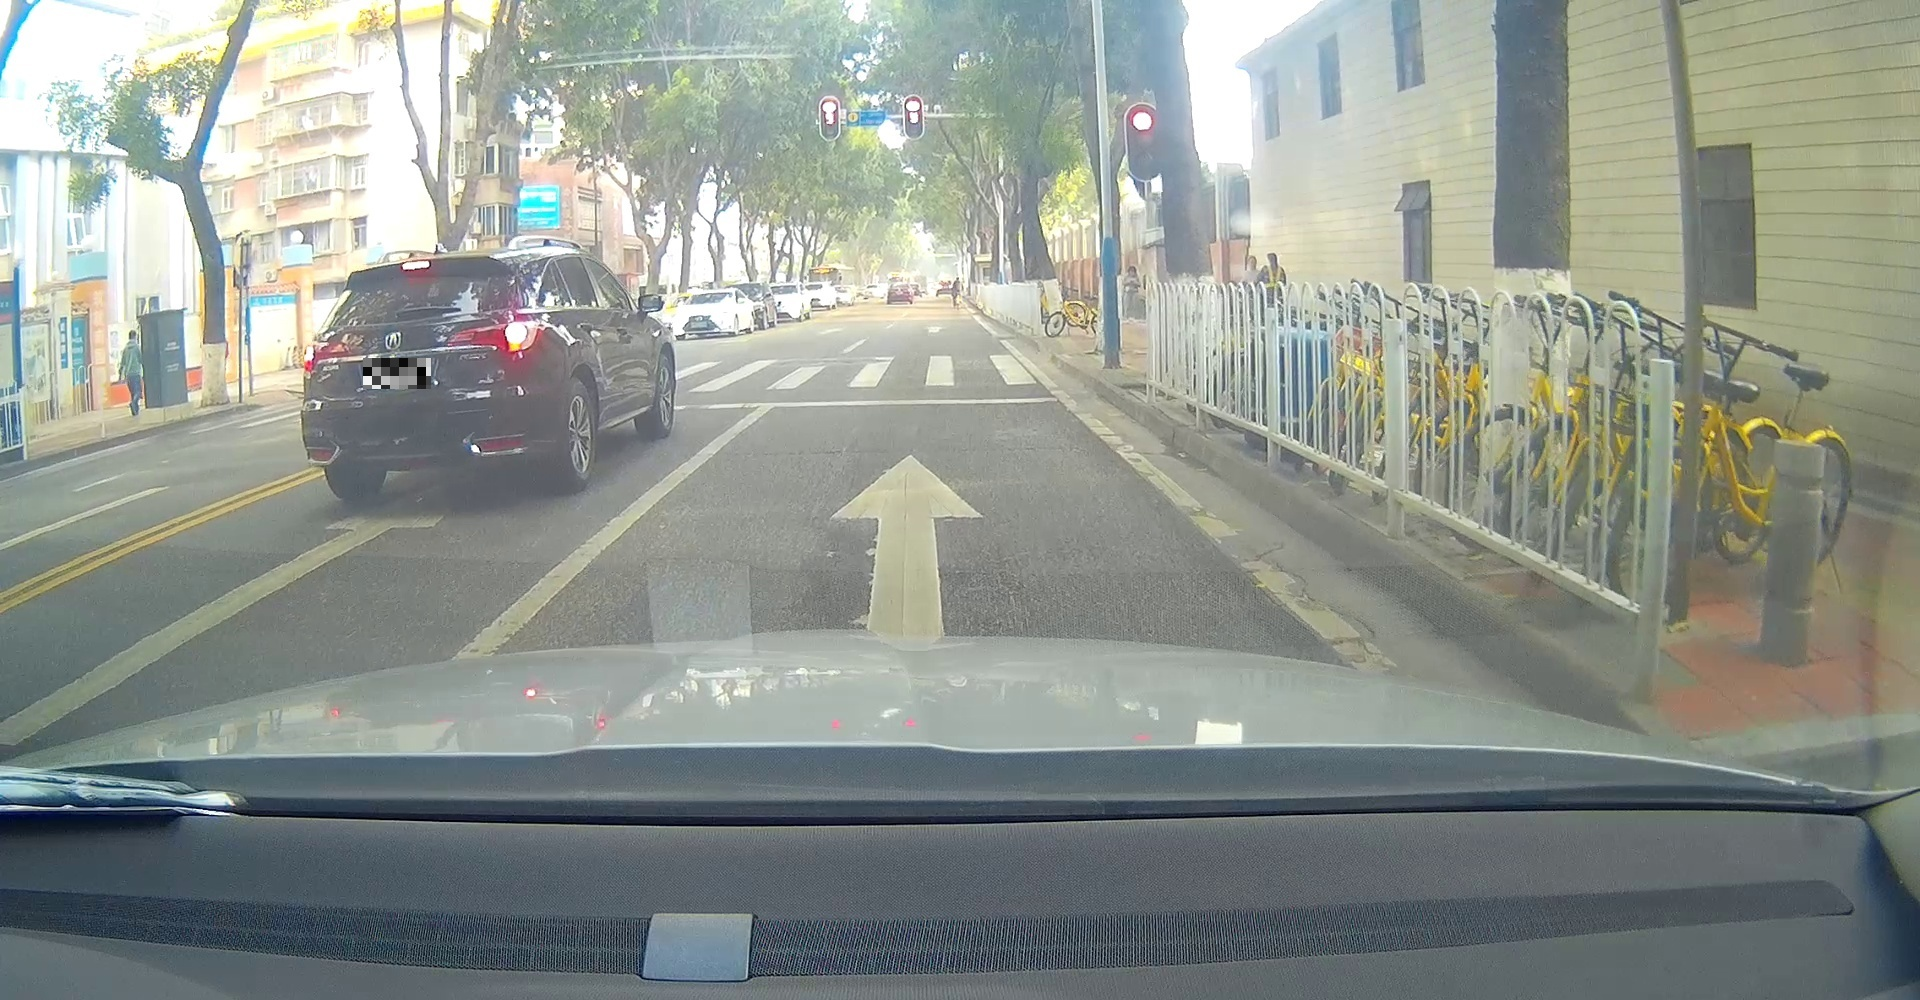L_light: (302, 341, 350, 372)
R_light: (444, 320, 541, 354)
T_light: (401, 260, 430, 272)
day-brake: (300, 254, 565, 504)
plate_1: (363, 358, 430, 390)
